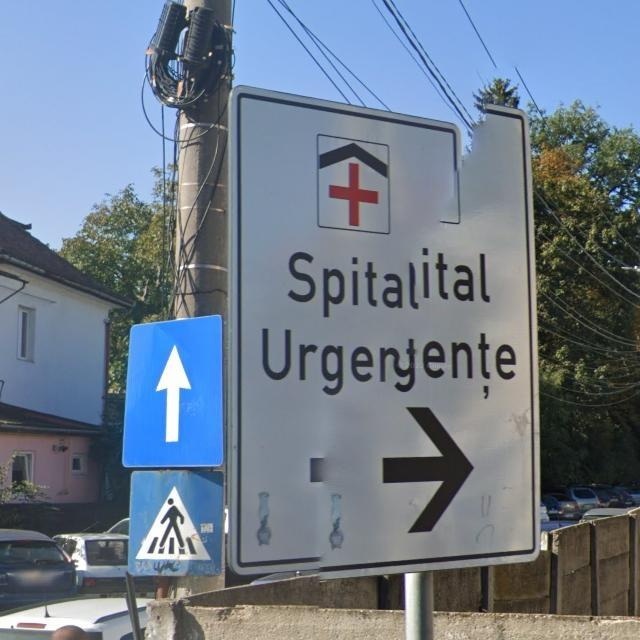info_crosswalk: (127, 468, 223, 578)
